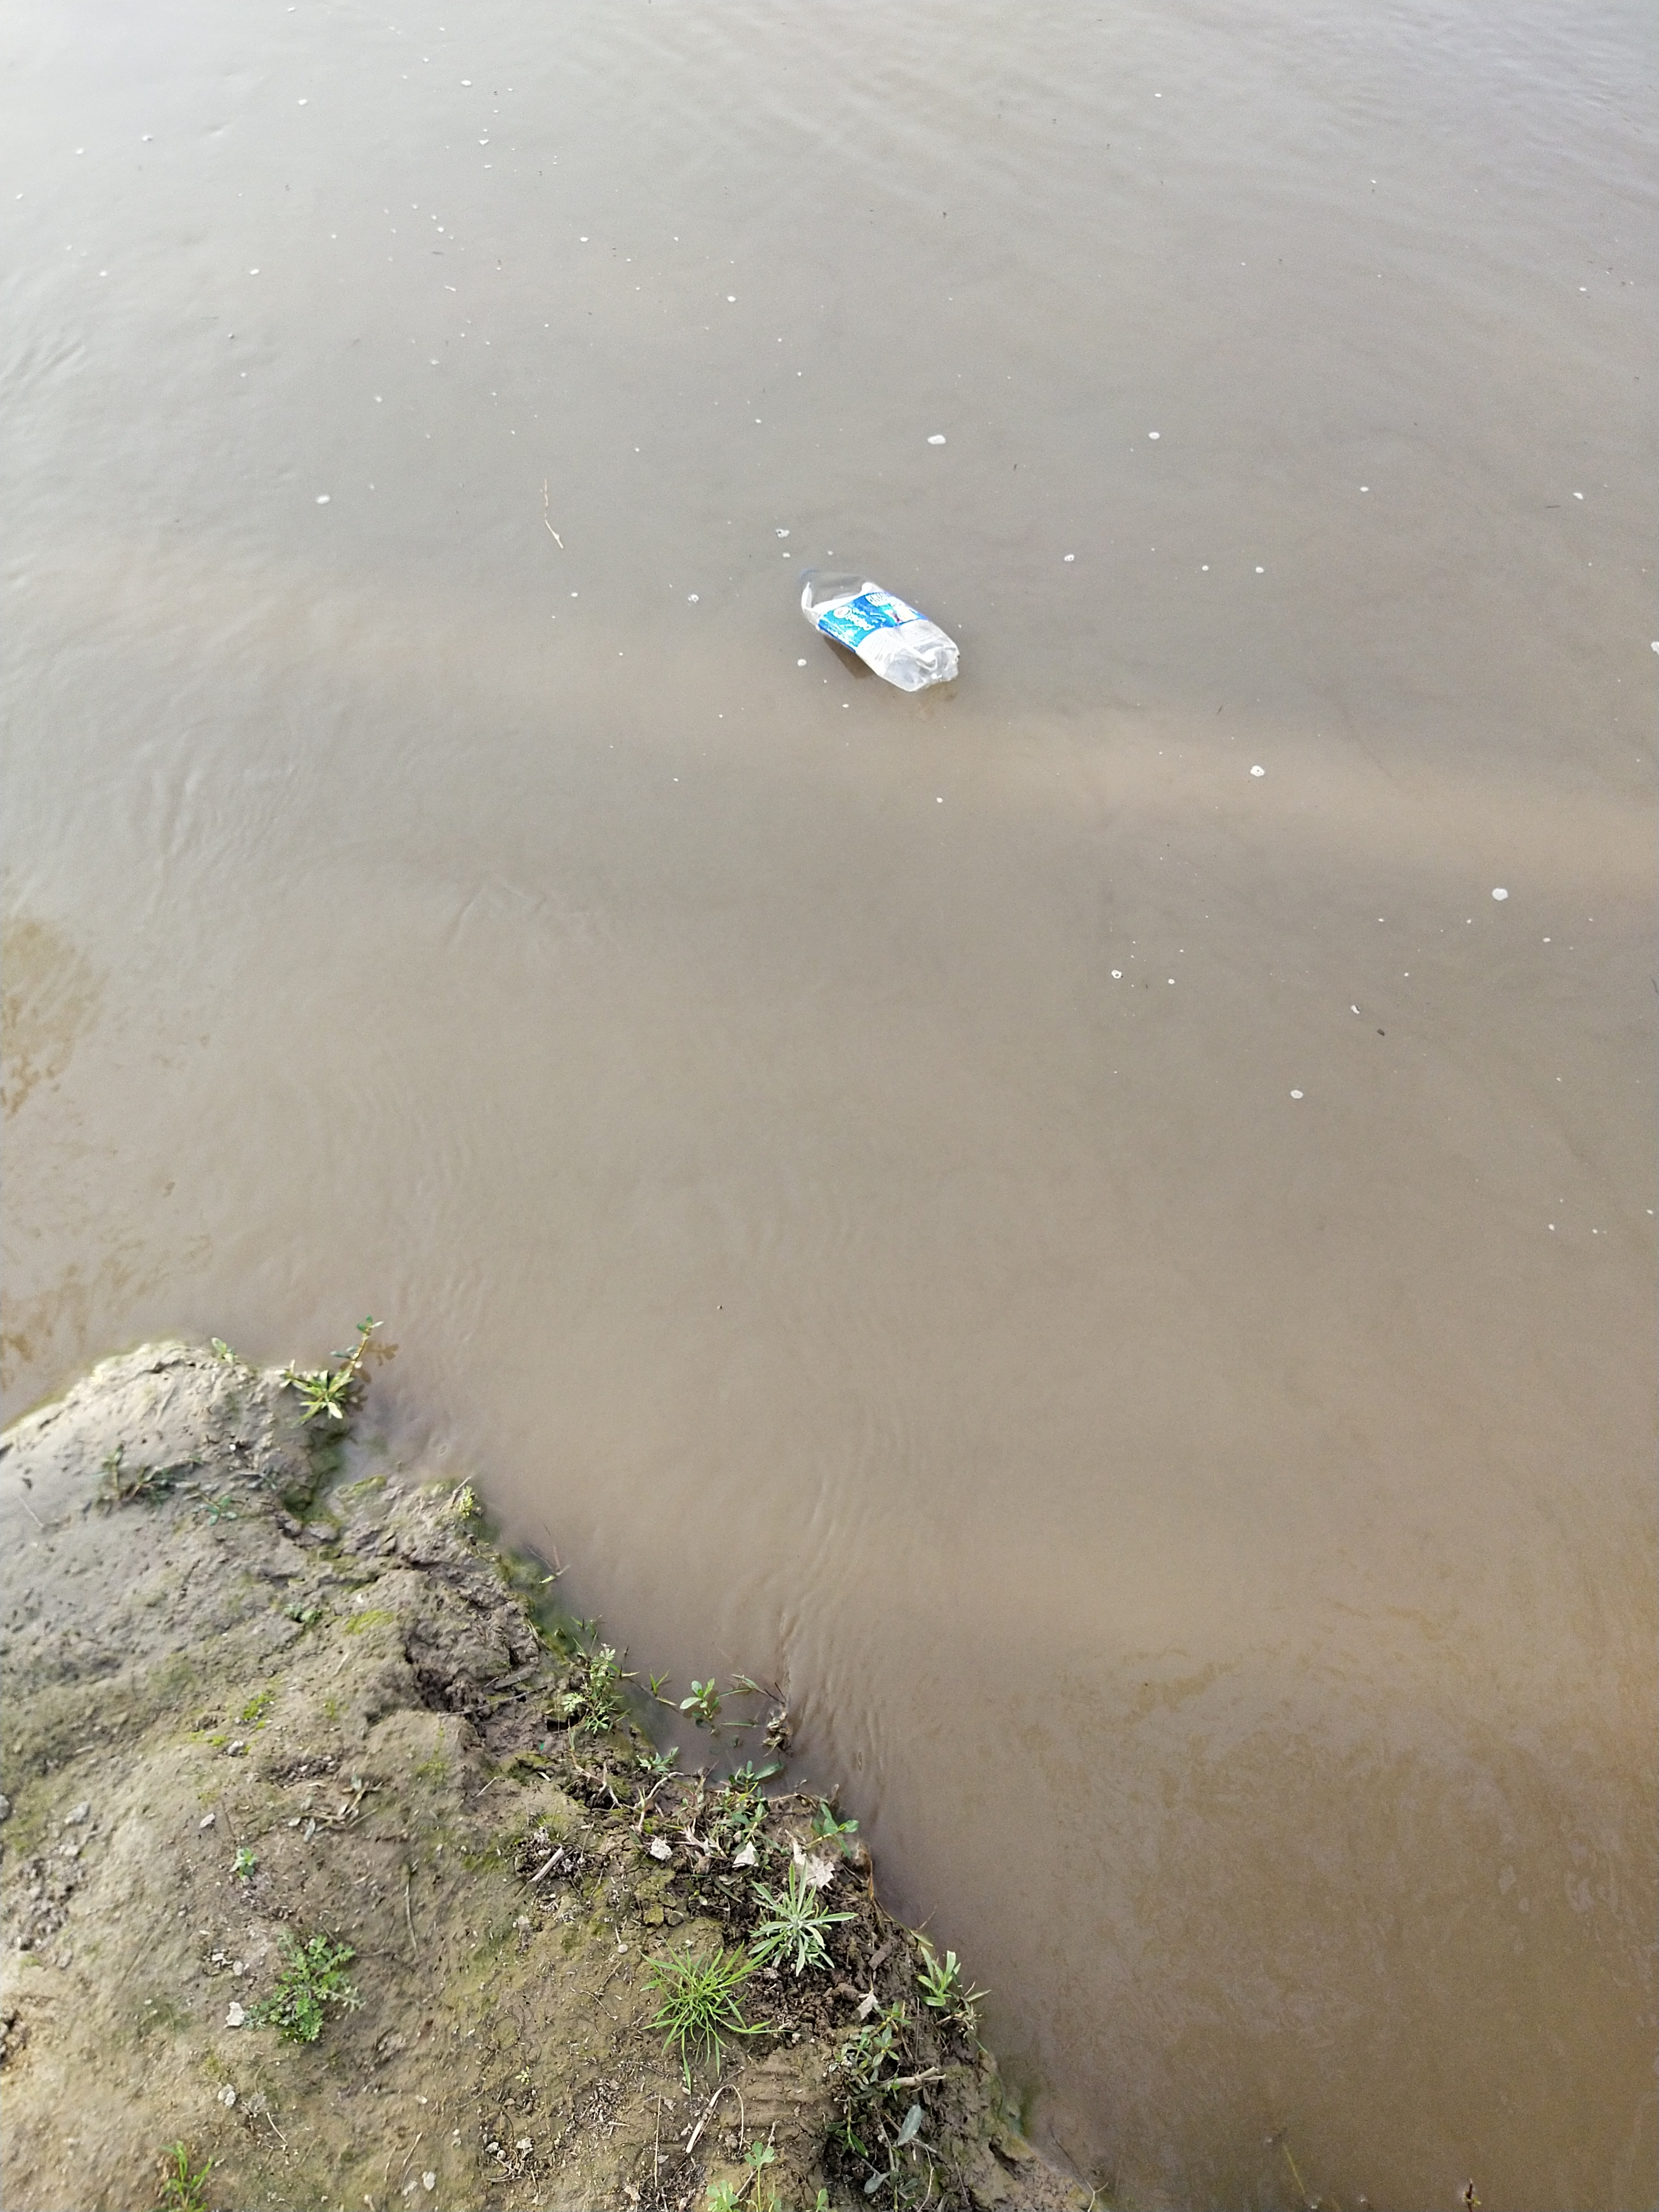Plastic Bottle: (802, 561, 958, 693)
